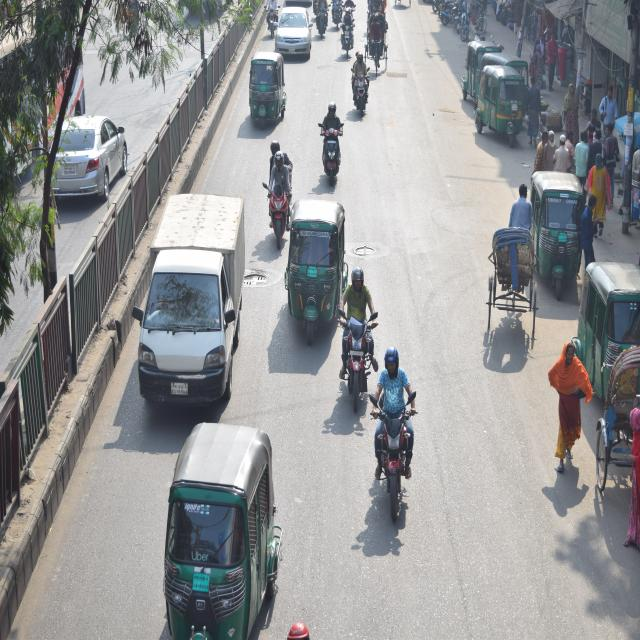car: (43, 102, 131, 211), (272, 4, 314, 66)
motorbike: (366, 377, 424, 546), (334, 294, 373, 411), (260, 148, 292, 256), (314, 114, 349, 184), (348, 55, 371, 122)
pickup-van: (134, 186, 248, 416)
